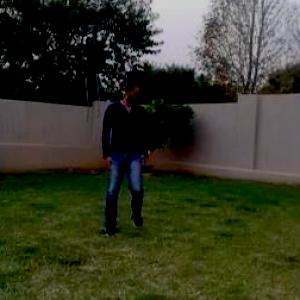follow: (102, 72, 146, 222)
